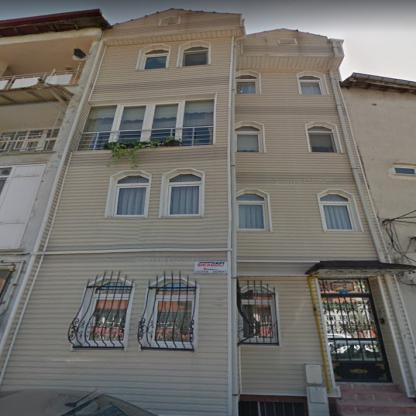door: (318, 279, 391, 382)
window: (82, 99, 214, 132), (72, 278, 134, 347), (141, 278, 198, 348), (1, 165, 43, 222), (242, 286, 280, 346), (159, 168, 204, 217), (108, 171, 150, 217), (317, 189, 362, 231), (236, 188, 271, 232), (240, 395, 308, 415), (305, 122, 342, 152), (235, 121, 265, 152), (136, 44, 169, 70), (177, 42, 210, 66), (298, 71, 328, 95), (236, 70, 261, 94), (160, 16, 179, 26), (393, 166, 412, 174), (278, 38, 296, 45)
